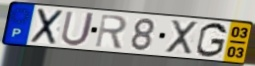8: (129, 17, 158, 53)
G: (195, 22, 229, 59)
R: (93, 13, 128, 50)
U: (59, 10, 97, 48)
X: (28, 7, 65, 46), (165, 19, 199, 56)
